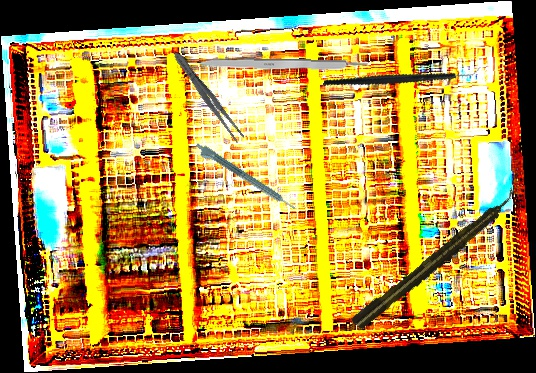Chopper: (322, 22, 482, 129)
Dressing Forceps: (169, 47, 247, 146)
Handpiece: (347, 186, 524, 334), (191, 141, 298, 216)
Scalpel Handle: (196, 57, 369, 73)
